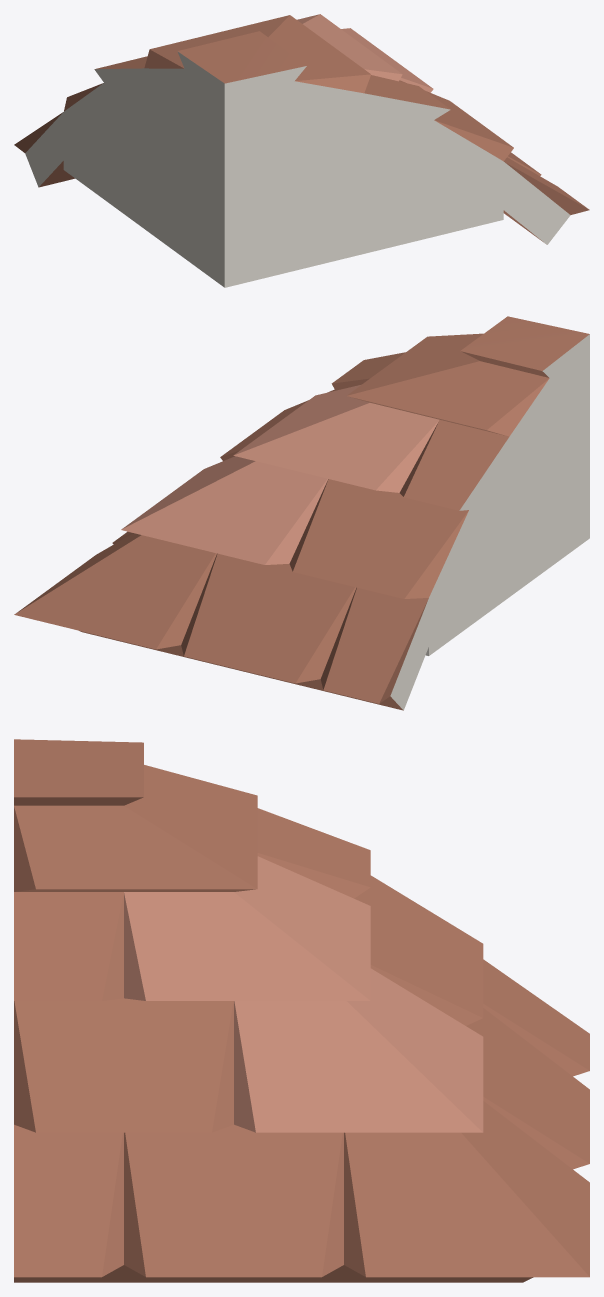
Rendered from Roof_Convex_Corner_Outer_Eave.glb.
3 renders of one model, top to bottom at view 1: azimuth 30°, elevation 25°; view 2: azimuth 150°, elevation 25°; view 3: azimuth 270°, elevation 25°, orthographic. The views are drawn at different scales.
Visible parts, largest first — view 1: object1; view 2: object1; view 3: object1.
Boxes of the visible parts, x1,y1,x2,y2 form: object1: (14,14,589,287); object1: (14,316,589,710); object1: (14,739,589,1282).
Bounding box in the file's own units: 1.31 × 0.8233 × 1.31.
